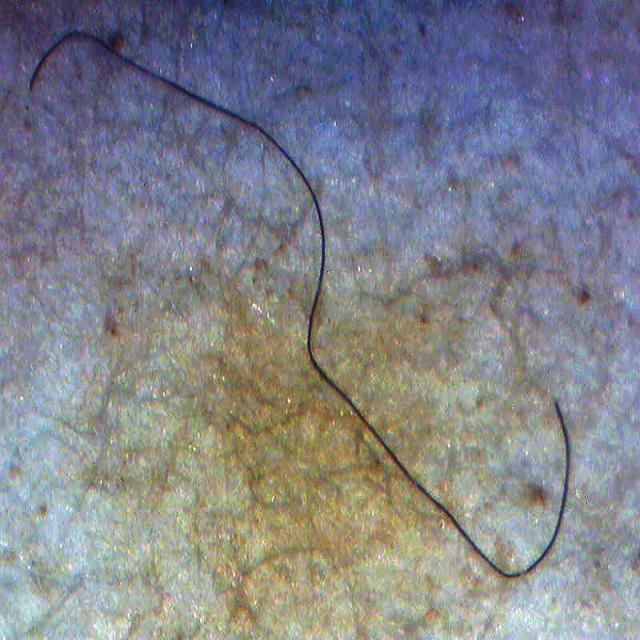microplastic: (30, 31, 570, 578)
